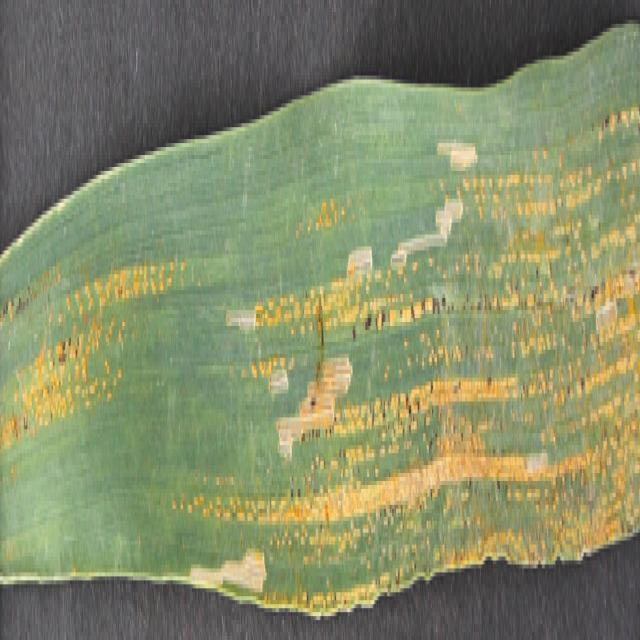leaf rust: (211, 95, 640, 612), (2, 231, 194, 481)
